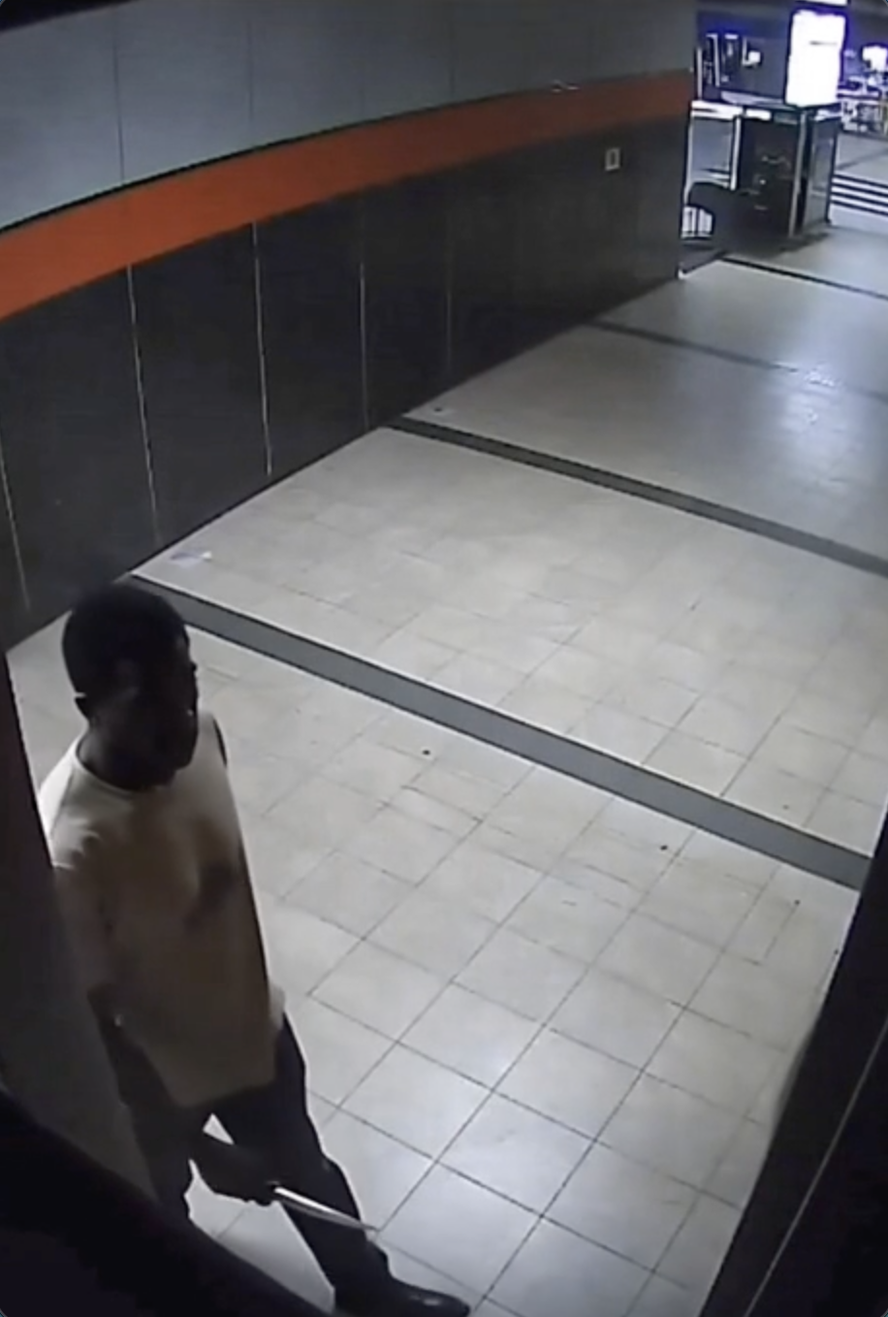Heavy Gun: (6, 569, 472, 1317)
Knife: (184, 1126, 384, 1241)
